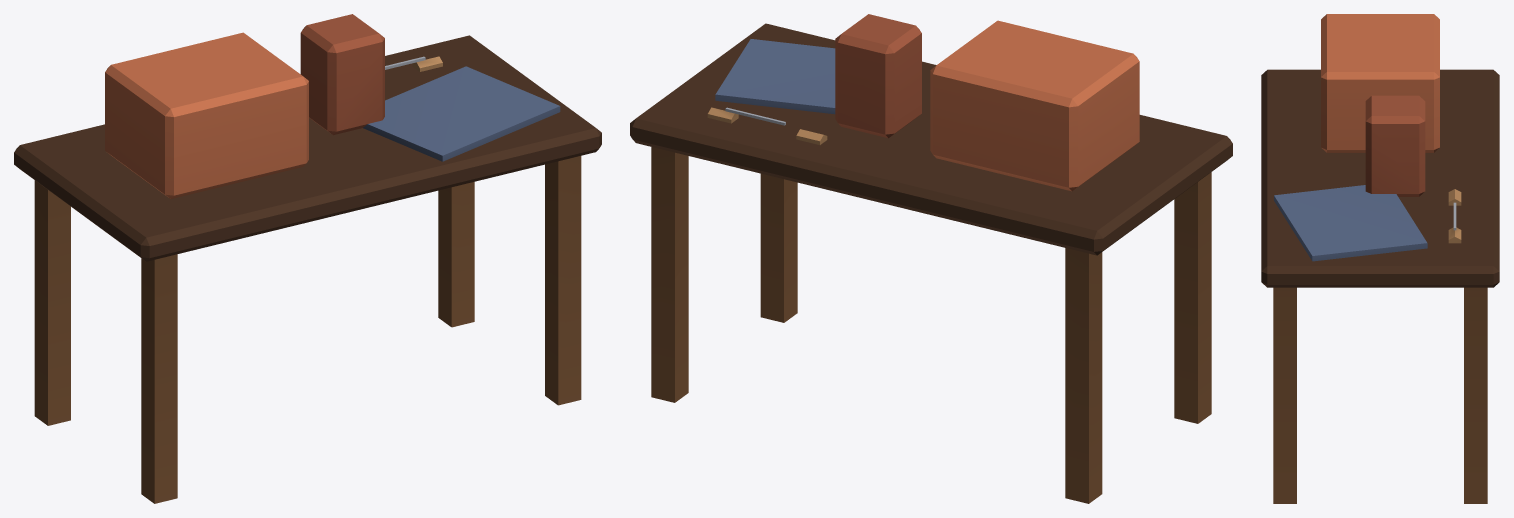
File: clay_table.glb
3 views of the same model, side by side, from view 1: azimuth 30°, elevation 25°; view 2: azimuth 150°, elevation 25°; view 3: azimuth 270°, elevation 25° (orthographic). The views are drawn at different scales.
Parts seen in each view (by area): view 1: clay_table; view 2: clay_table; view 3: clay_table.
Part boxes in pixels (x1=…): clay_table: x1=14, y1=14, x2=601, y2=503; clay_table: x1=630, y1=14, x2=1232, y2=503; clay_table: x1=1261, y1=14, x2=1499, y2=503.
Size of the model in its own units: 1.6 by 1.2 by 0.8.
